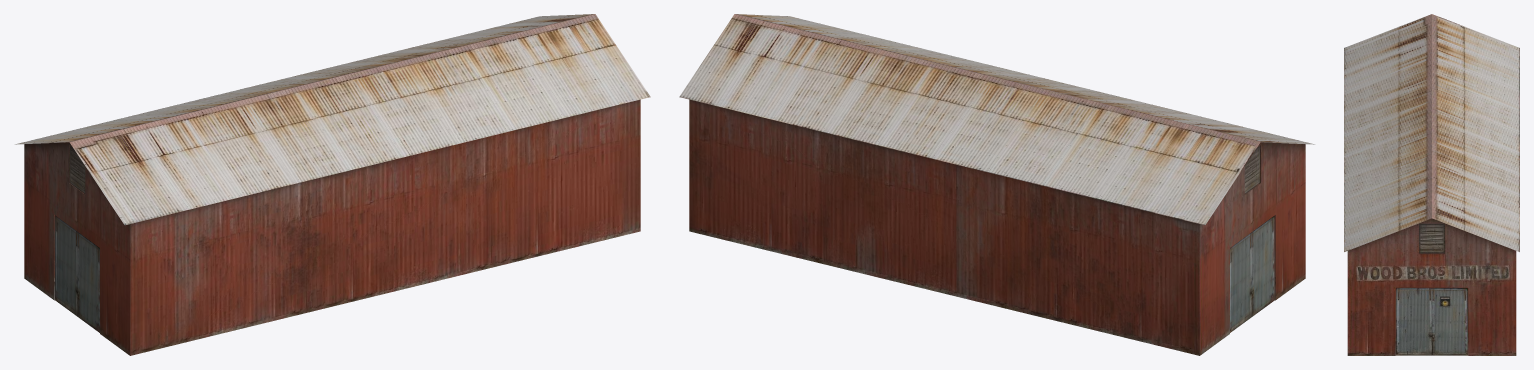
3 renders of one model, left to right at view 1: azimuth 30°, elevation 25°; view 2: azimuth 150°, elevation 25°; view 3: azimuth 270°, elevation 25°, orthographic. The views are drawn at different scales.
Parts seen in each view (by area): view 1: wh-l2; view 2: wh-l2; view 3: wh-l2.
Part boxes in pixels (<box>): wh-l2: <box>15,14,650,355</box>; wh-l2: <box>679,14,1314,355</box>; wh-l2: <box>1344,14,1519,355</box>.
Bounding box in the file's own units: 14 × 4.5 × 5.09.
1 material, 1 textured.
